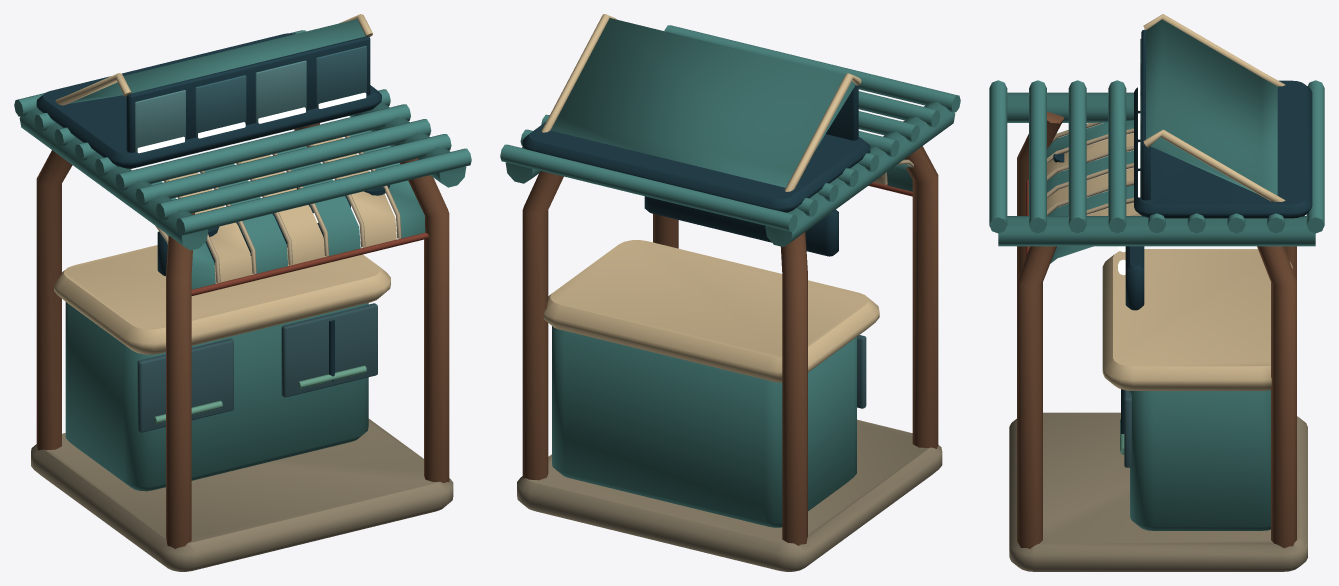
Rendered from annex_wash_5.glb.
3 renders of one model, left to right at view 1: azimuth 30°, elevation 25°; view 2: azimuth 150°, elevation 25°; view 3: azimuth 270°, elevation 25°, orthographic. The views are drawn at different scales.
Parts seen in each view (by area): view 1: Annex_wash_5; view 2: Annex_wash_5; view 3: Annex_wash_5.
Boxes of the visible parts, bbox=[...] form: Annex_wash_5: bbox=[14, 14, 471, 571]; Annex_wash_5: bbox=[500, 14, 960, 571]; Annex_wash_5: bbox=[989, 14, 1324, 571].
Bounding box in the file's own units: 1.93 × 2.82 × 1.98.
